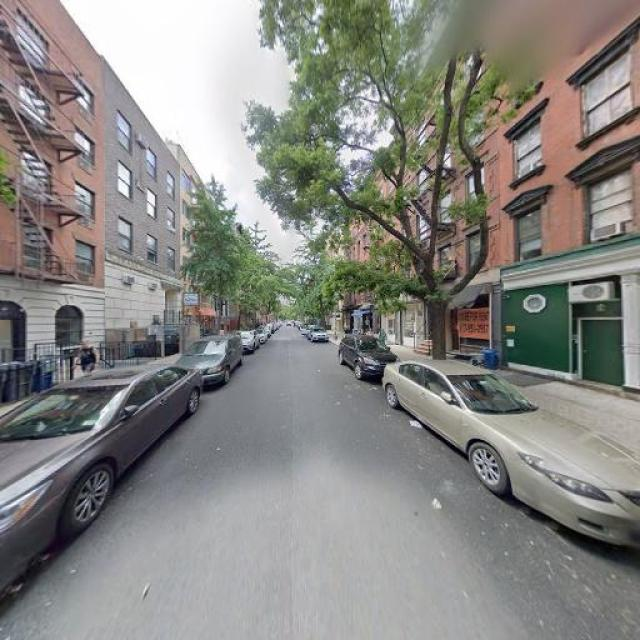Building: (457, 1, 633, 400), (1, 1, 99, 409), (384, 8, 454, 359), (104, 72, 178, 375)
